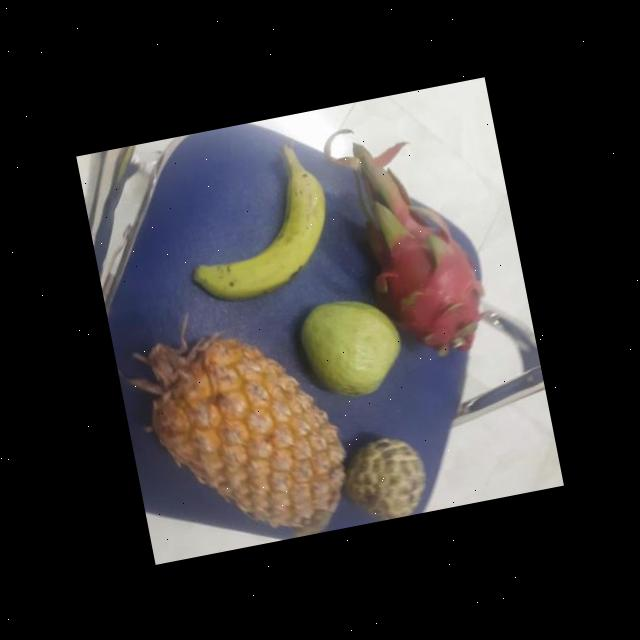Sakya fruit: (332, 422, 432, 526)
banana: (180, 152, 338, 308)
guava: (295, 284, 407, 404)
pineapple: (140, 308, 354, 552)
pitaya: (359, 206, 497, 362)
